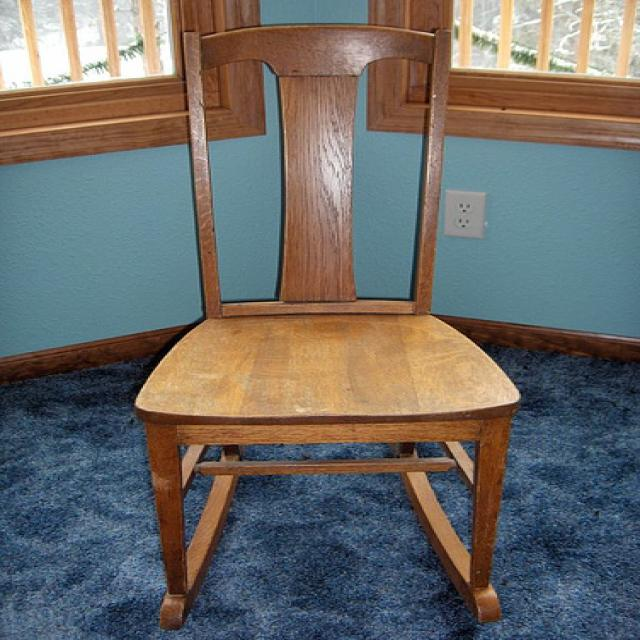chair: (120, 23, 522, 632)
